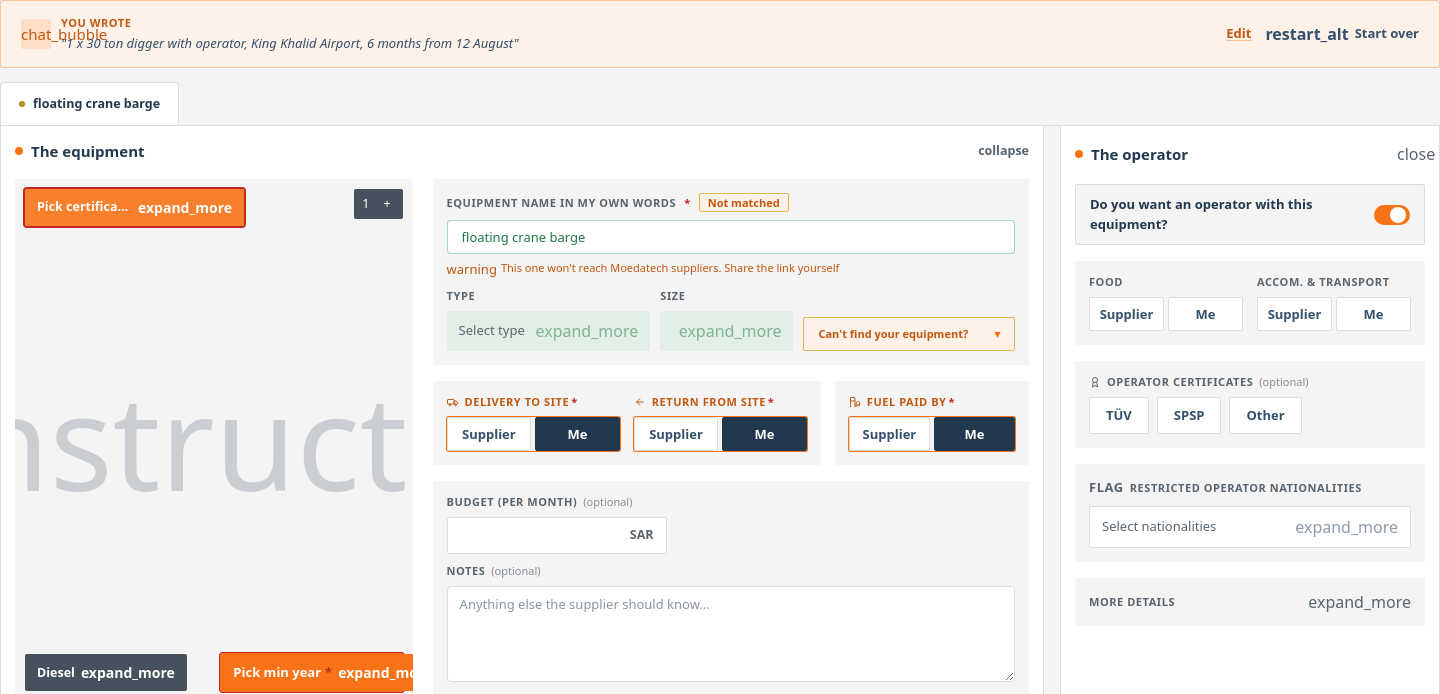
Scenario: the escape, and the panel behind it › hands him his own words, already written, in a field he may change
Click the button "Can't find your equipment? ▾" at (909, 334), box 804,317 -> 1015,351
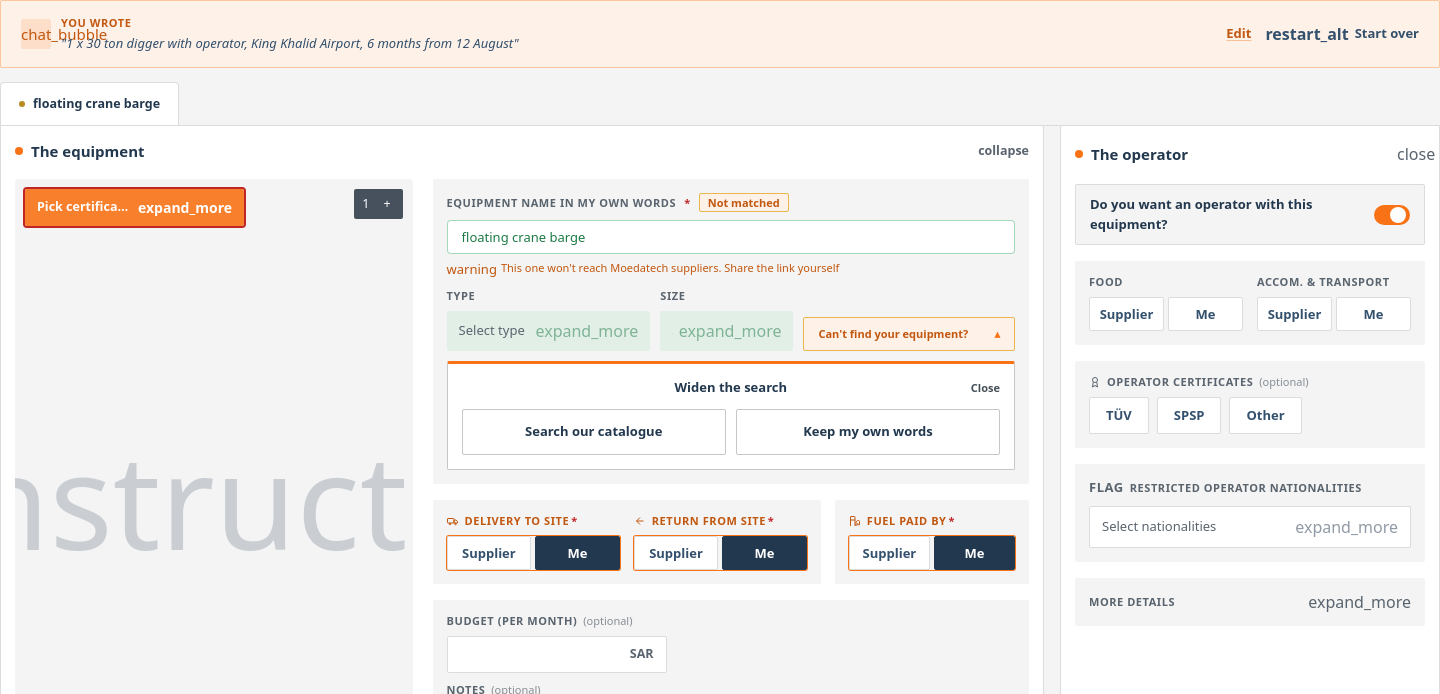
Click the button "Keep my own words" at (868, 432), box 736,409 -> 1000,455
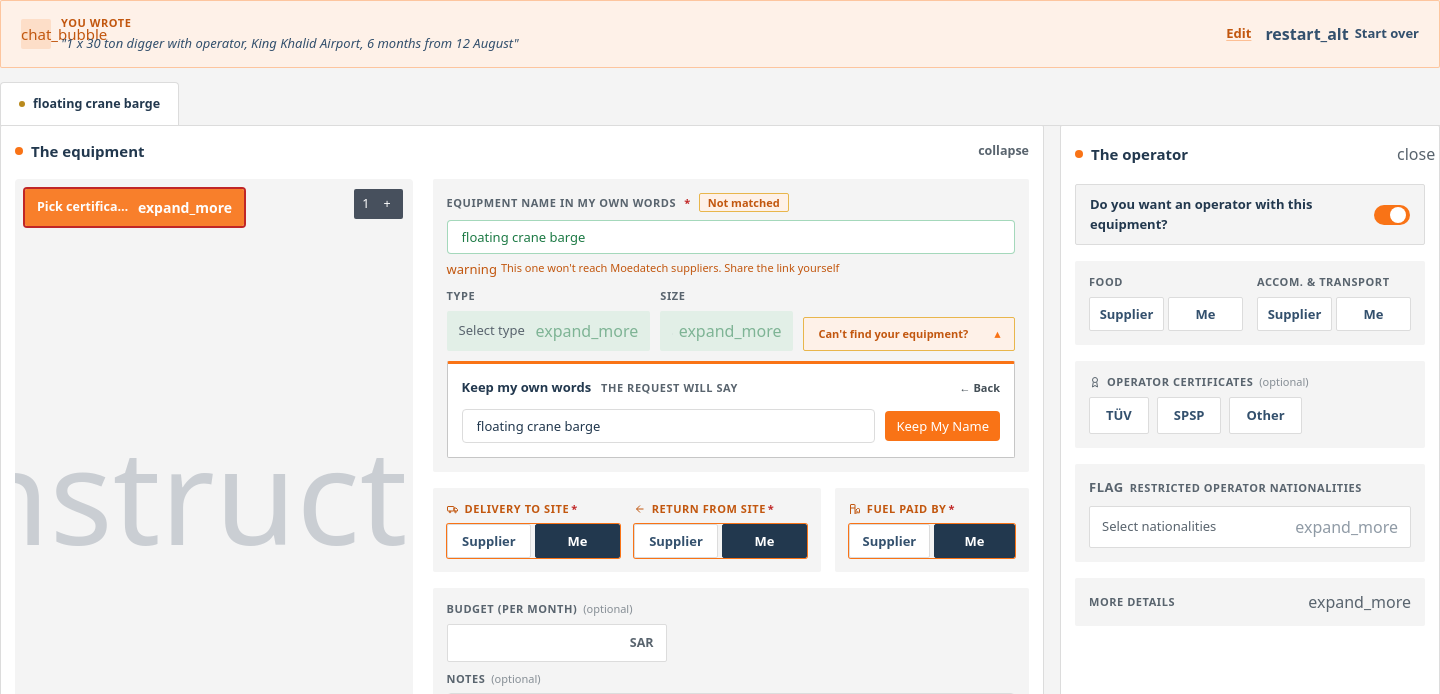
Check: the text "THE REQUEST WILL SAY" is shown, box 601,380 -> 738,396
Check: the field with placeholder "Name the equipment you need" below "Keep my own words" holds "floating crane barge", box 462,409 -> 875,443
Check: the button "Keep my name" is shown, box 885,411 -> 1000,441
